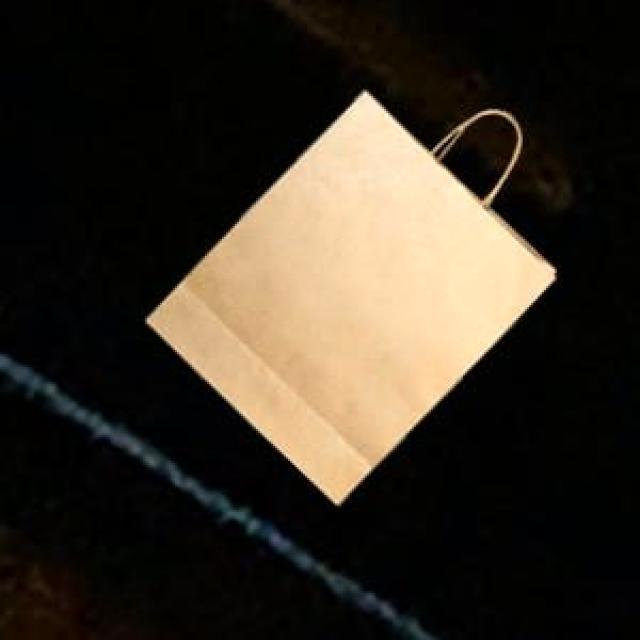Paper_Bag: (144, 88, 552, 500)
